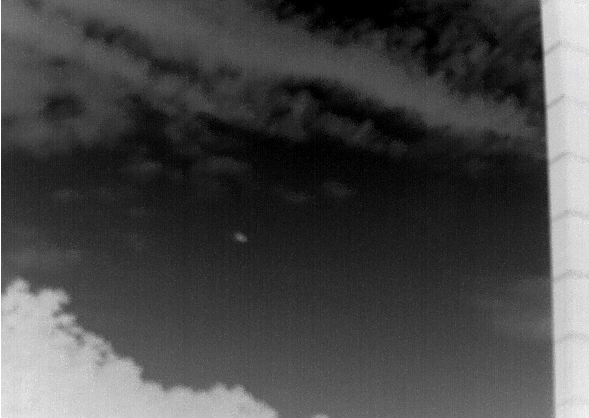dim target: (233, 231, 248, 243)
